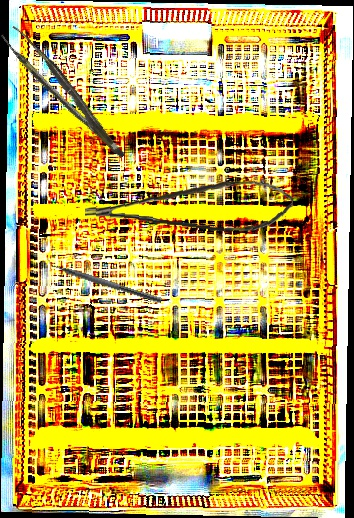Chopper: (42, 254, 165, 304)
Micro Scissor: (84, 167, 295, 238)
Tissue Forceps: (0, 18, 126, 172)
